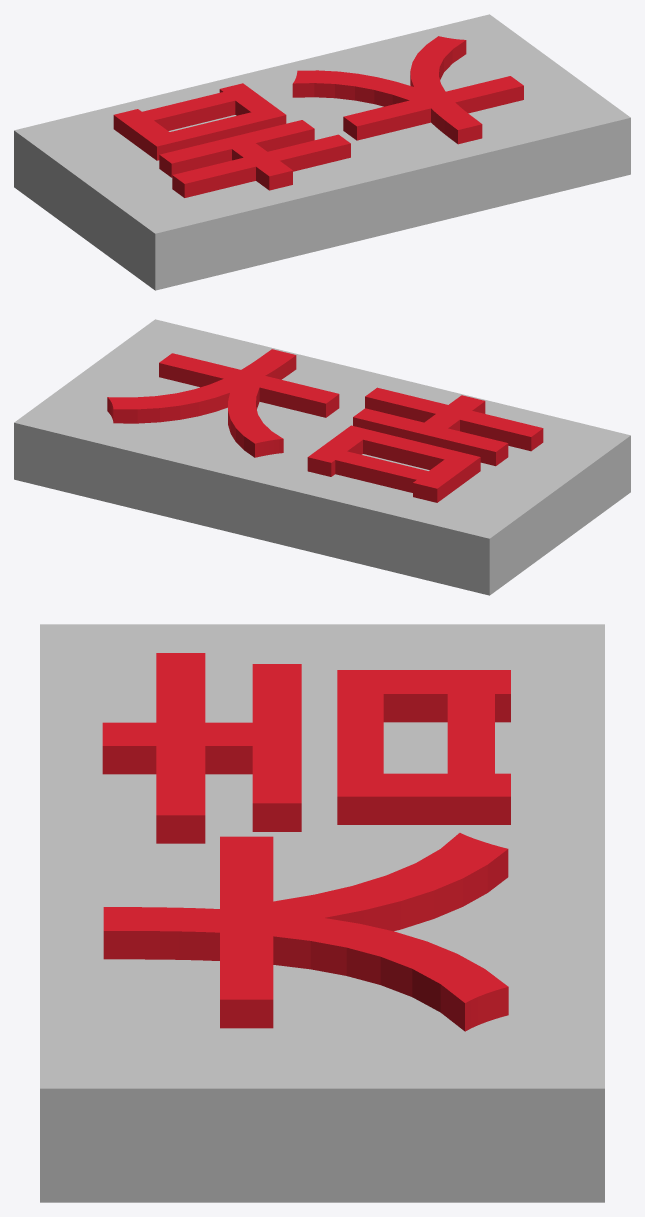
File: tinker.obj
3 views of the same model, one above another, from view 1: azimuth 30°, elevation 25°; view 2: azimuth 150°, elevation 25°; view 3: azimuth 270°, elevation 25° (orthographic). The views are drawn at different scales.
Visible parts, largest first — view 1: group_0_16448250, group_0_15277357; view 2: group_0_16448250, group_0_15277357; view 3: group_0_16448250, group_0_15277357.
Part boxes in pixels (x1,y1,x2,y2): group_0_16448250: (14, 14, 630, 290); group_0_15277357: (113, 36, 523, 197); group_0_16448250: (14, 319, 630, 595); group_0_15277357: (107, 349, 543, 502); group_0_16448250: (40, 624, 604, 1202); group_0_15277357: (102, 653, 510, 1031).
Size of the model in its own units: 70 by 10 by 36.
